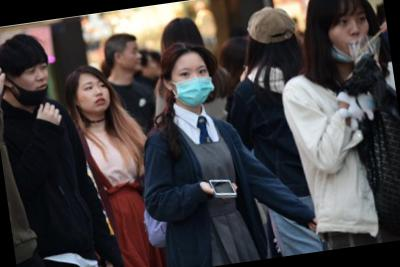mask_weared_incorrect: (326, 7, 376, 66), (15, 62, 54, 110)
with_mask: (171, 62, 218, 110)
without_mask: (77, 77, 115, 119), (122, 43, 145, 74)
